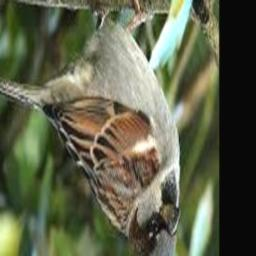Sparrow: (0, 0, 180, 256)
